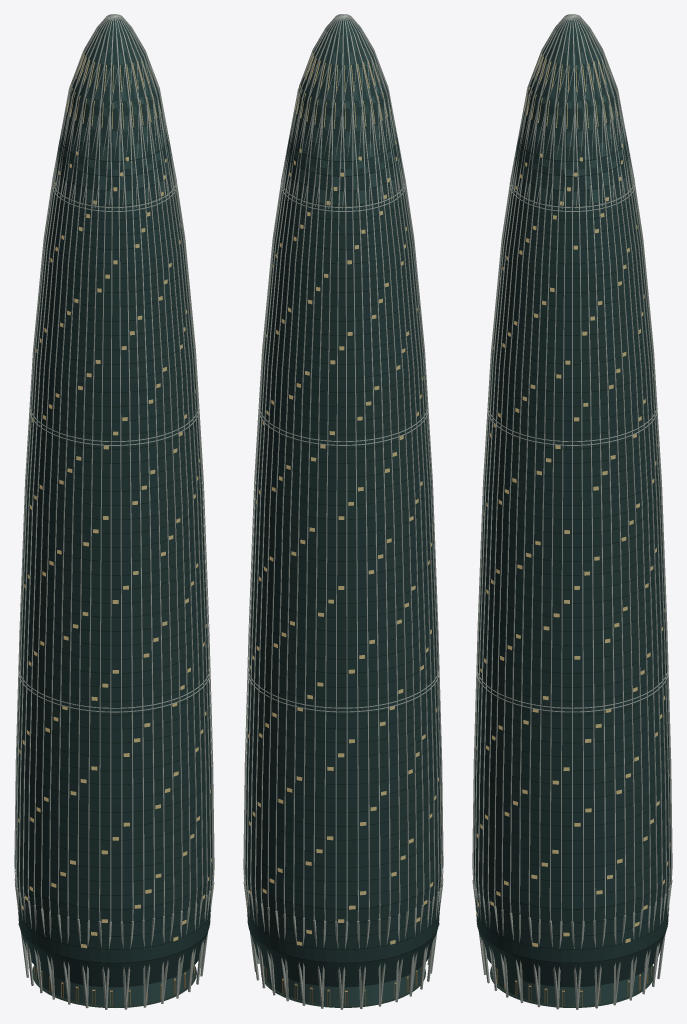
File: china-resources.glb
3 renders of one model, left to right at view 1: azimuth 30°, elevation 25°; view 2: azimuth 150°, elevation 25°; view 3: azimuth 270°, elevation 25°, orthographic.
Visible parts, largest first — view 1: Tower_envelope, External_columns, Floor_joints, Crown_facets, Crown_transition, Entrance_diagrid, Night_windows, Crown_ribs, Recessed_lobby, Crown_diagrid, Technical_belts, Night_crown (+1 smaller); view 2: Tower_envelope, External_columns, Floor_joints, Crown_facets, Crown_transition, Entrance_diagrid, Night_windows, Crown_ribs, Recessed_lobby, Crown_diagrid, Technical_belts, Night_crown; view 3: Tower_envelope, External_columns, Floor_joints, Crown_facets, Crown_transition, Entrance_diagrid, Night_windows, Crown_ribs, Recessed_lobby, Crown_diagrid, Technical_belts, Night_crown (+1 smaller).
Part boxes in pixels (x1,y1,x2,y2): Tower_envelope: (15, 15, 212, 987); External_columns: (14, 182, 214, 922); Floor_joints: (15, 137, 212, 963); Crown_facets: (54, 18, 174, 209); Crown_transition: (52, 87, 176, 209); Entrance_diagrid: (14, 877, 214, 1009); Night_windows: (16, 137, 211, 948); Crown_ribs: (69, 14, 159, 108); Recessed_lobby: (35, 966, 193, 1005); Crown_diagrid: (52, 52, 176, 209); Technical_belts: (18, 180, 210, 712); Night_crown: (66, 52, 161, 128); Tower_envelope: (245, 15, 442, 987); External_columns: (243, 183, 443, 921); Floor_joints: (245, 138, 441, 963); Crown_facets: (284, 18, 402, 209); Crown_transition: (281, 85, 405, 209); Entrance_diagrid: (243, 877, 443, 1009); Night_windows: (247, 140, 441, 945); Crown_ribs: (298, 14, 388, 108); Recessed_lobby: (264, 966, 421, 1005); Crown_diagrid: (281, 51, 405, 209); Technical_belts: (247, 182, 438, 712); Night_crown: (295, 53, 391, 128); Tower_envelope: (474, 15, 670, 987); External_columns: (472, 183, 672, 922); Floor_joints: (474, 139, 670, 963); Crown_facets: (512, 18, 629, 209); Crown_transition: (509, 86, 634, 209); Entrance_diagrid: (472, 880, 672, 1009); Night_windows: (476, 143, 670, 946); Crown_ribs: (527, 14, 617, 108); Recessed_lobby: (495, 966, 651, 1005); Crown_diagrid: (510, 53, 634, 209); Technical_belts: (476, 181, 668, 712); Night_crown: (524, 54, 620, 128).
Size of the model in its own units: 74.38 by 392 by 74.38.
